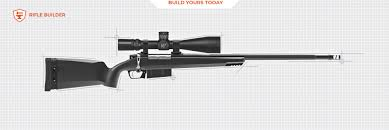gun: (40, 29, 344, 93)
